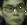without_mask: (1, 1, 27, 25)
